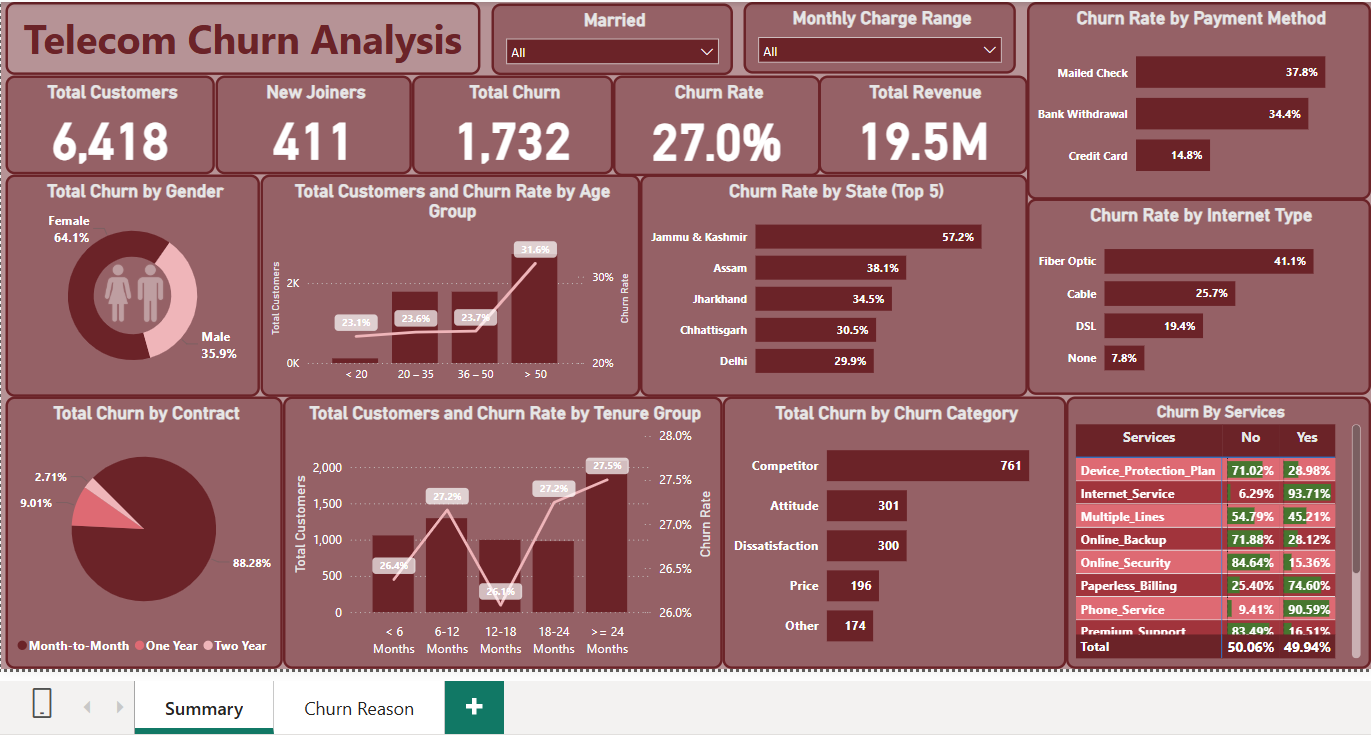

This screenshot's page, from the dashboard's own definition file:
{"tool":"powerbi","page":{"name":"Summary","canvas":[1480,720],"ordinal":0},"visuals":[{"type":"image","box":[98,267.9,89.3,92.8],"z":0},{"type":"card","title":"Total Customers","fields":{"Values":["churn_data.Total Customers"]},"box":[5.3,78.8,225.9,106.8],"z":1000},{"type":"card","title":"New Joiners","fields":{"Values":["churn_data.New Joiners"]},"box":[231.1,78.8,211.8,106.8],"z":2000},{"type":"card","title":"Total Churn","fields":{"Values":["churn_data.Total Churn"]},"box":[443,78.8,217.1,106.8],"z":3000},{"type":"card","title":"Churn Rate","fields":{"Values":["DAX Measures.Churn Rate"]},"box":[660.1,78.8,224.1,108.5],"z":4000},{"type":"donutChart","fields":{"Y":["DAX Measures.Total Churn"],"Category":["churn_data.Gender"]},"box":[5.3,185.6,274.9,239.9],"z":5000},{"type":"lineStackedColumnComboChart","fields":{"Y":["DAX Measures.Total Customers"],"Y2":["DAX Measures.Churn Rate"],"Category":["mapping_AgeGrp.Age Group"]},"box":[280.1,185.6,409.7,239.9],"z":6000},{"type":"clusteredBarChart","title":"Churn Rate by Payment Method","fields":{"Category":["churn_data.Payment_Method"],"Y":["DAX Measures.Churn Rate"]},"box":[1108.3,0,371.2,213.6],"z":7000},{"type":"pieChart","fields":{"Category":["churn_data.Contract"],"Y":["DAX Measures.Total Churn"]},"box":[5.3,425.4,299.4,294.1],"z":8000},{"type":"lineStackedColumnComboChart","fields":{"Y":["DAX Measures.Total Customers"],"Y2":["DAX Measures.Churn Rate"],"Category":["mapping_TenureGrp.Tenure Group"]},"box":[304.6,425.4,474.5,294.1],"z":9000},{"type":"clusteredBarChart","title":"Churn Rate by State (Top 5)","fields":{"Category":["churn_data.State"],"Y":["DAX Measures.Churn Rate"]},"box":[689.8,185.6,418.4,239.9],"z":10000},{"type":"clusteredBarChart","title":"Total Churn by Churn Category","fields":{"Category":["churn_data.Churn_Category"],"Y":["DAX Measures.Total Churn"]},"box":[779.1,425.4,371.2,294.1],"z":11000},{"type":"clusteredBarChart","title":"Churn Rate by Internet Type","fields":{"Category":["churn_data.Internet_Type"],"Y":["DAX Measures.Churn Rate"]},"box":[1108.3,211.8,371.2,211.8],"z":12000},{"type":"pivotTable","title":"Churn By Services","fields":{"Rows":["churn_Services.Services"],"Columns":["churn_Services.Status"],"Values":["Sum(churn_Services.Churn Status)"]},"box":[1150.3,425.4,329.2,294.1],"z":13000},{"type":"slicer","title":"Monthly Charge Range","fields":{"Values":["churn_data.Monthly Charge Status"]},"box":[801.9,0,294.1,77],"z":14000},{"type":"textbox","box":[5.3,0,513,78.8],"z":15000},{"type":"slicer","title":"Married","fields":{"Values":["churn_data.Married"]},"box":[528.7,1.8,260.9,77],"z":16000},{"type":"card","title":"Total Revenue","fields":{"Values":["Sum(churn_data.Total_Revenue)"]},"box":[882.4,78.8,225.9,106.8],"z":17000}]}

Visuals, with their boxes on the page's 1480x720 design canvas (x1, y1, x2, y2). These are canvas units, not pixel positions in the 1371x735 screenshot, which may show the page scaled, cropped or inside an application window:
image: bbox=(98, 268, 187, 361)
"Total Customers" card: bbox=(5, 79, 231, 186)
"New Joiners" card: bbox=(231, 79, 443, 186)
"Total Churn" card: bbox=(443, 79, 660, 186)
"Churn Rate" card: bbox=(660, 79, 884, 187)
donutChart - DAX Measures.Total Churn x churn_data.Gender: bbox=(5, 186, 280, 426)
lineStackedColumnComboChart - DAX Measures.Total Customers x DAX Measures.Churn Rate: bbox=(280, 186, 690, 426)
"Churn Rate by Payment Method" clusteredBarChart: bbox=(1108, 0, 1480, 214)
pieChart - churn_data.Contract x DAX Measures.Total Churn: bbox=(5, 425, 305, 720)
lineStackedColumnComboChart - DAX Measures.Total Customers x DAX Measures.Churn Rate: bbox=(305, 425, 779, 720)
"Churn Rate by State (Top 5)" clusteredBarChart: bbox=(690, 186, 1108, 426)
"Total Churn by Churn Category" clusteredBarChart: bbox=(779, 425, 1150, 720)
"Churn Rate by Internet Type" clusteredBarChart: bbox=(1108, 212, 1480, 424)
"Churn By Services" pivotTable: bbox=(1150, 425, 1480, 720)
"Monthly Charge Range" slicer: bbox=(802, 0, 1096, 77)
textbox: bbox=(5, 0, 518, 79)
"Married" slicer: bbox=(529, 2, 790, 79)
"Total Revenue" card: bbox=(882, 79, 1108, 186)
